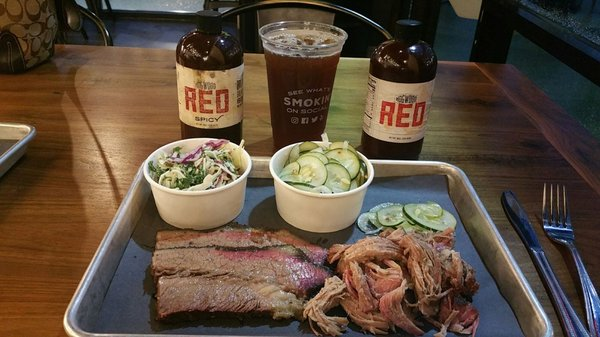sandwich: (501, 188, 591, 336)
soup: (147, 228, 331, 328)
sushi: (144, 137, 252, 231), (269, 139, 374, 233)
